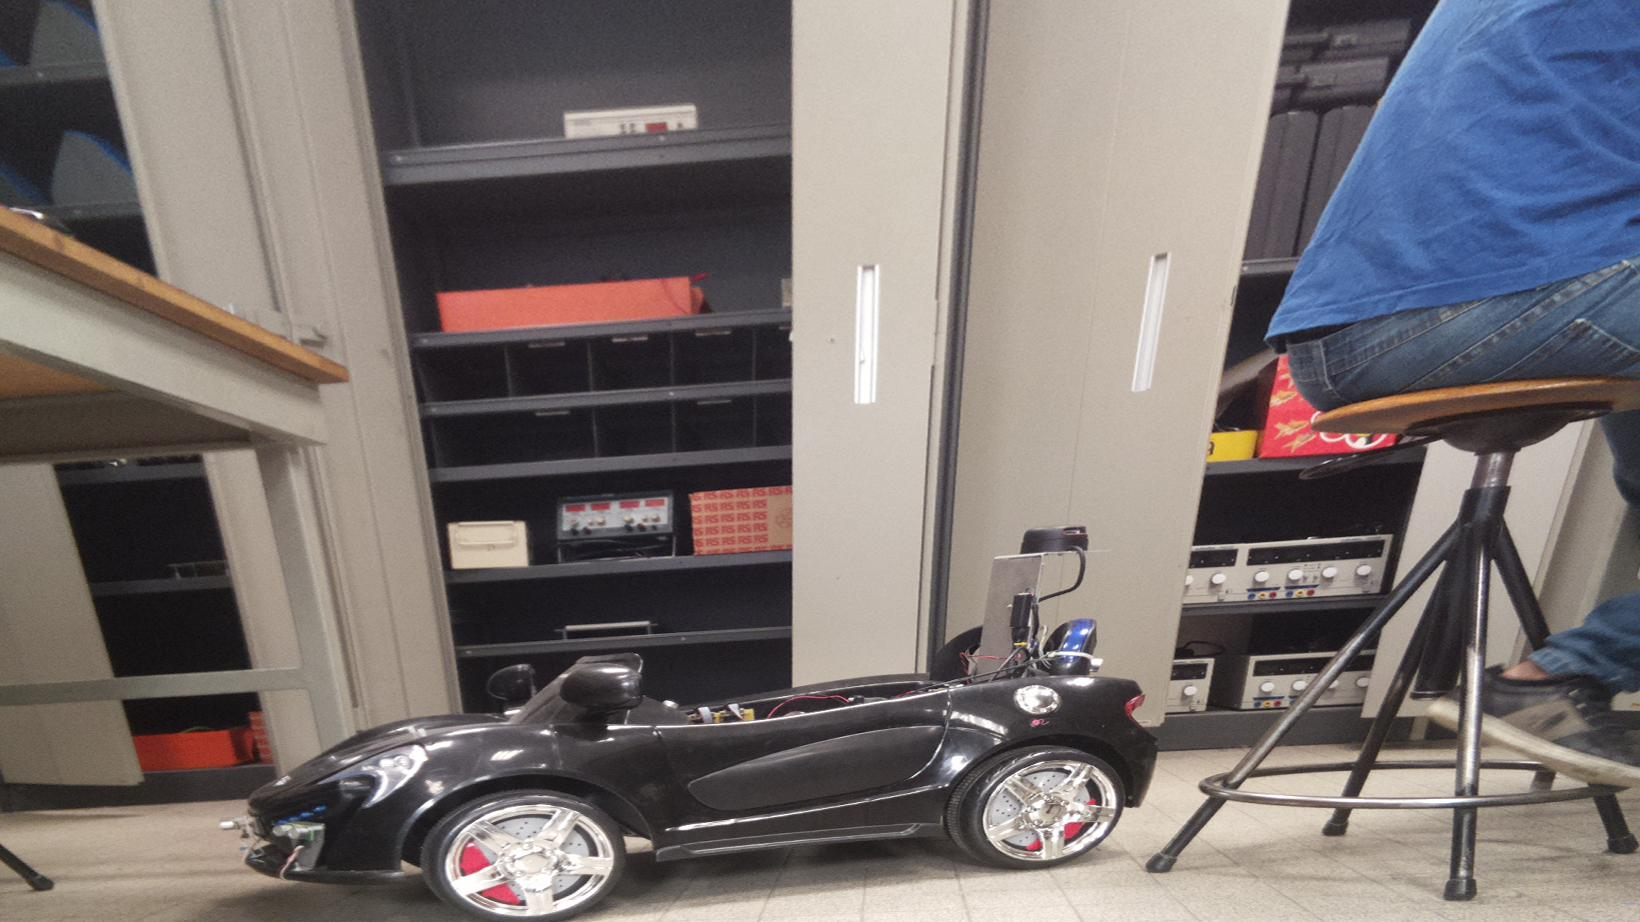big: (214, 518, 1164, 922)
